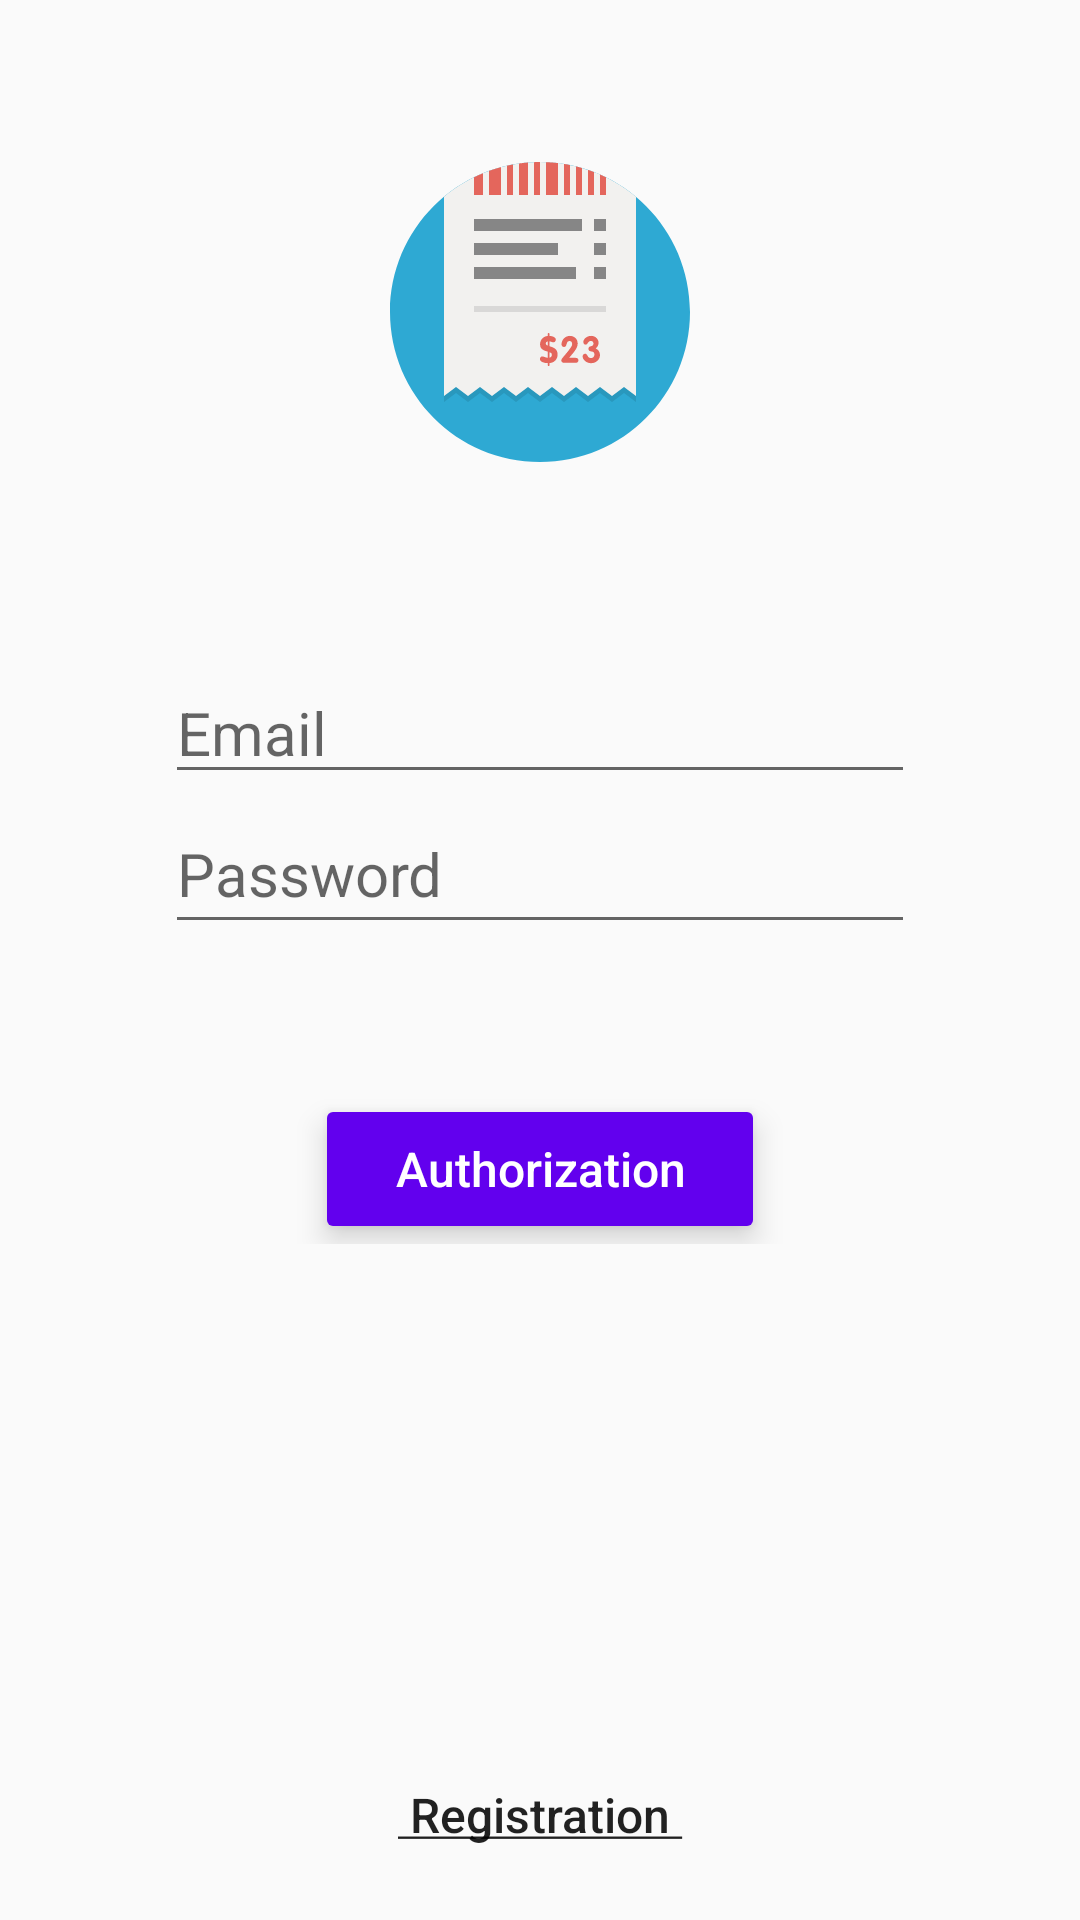

Icon click points for this 1080 × 1920 phone screenshot, format (x=x, y=y):
iconfinder bill: (x=540, y=312)
